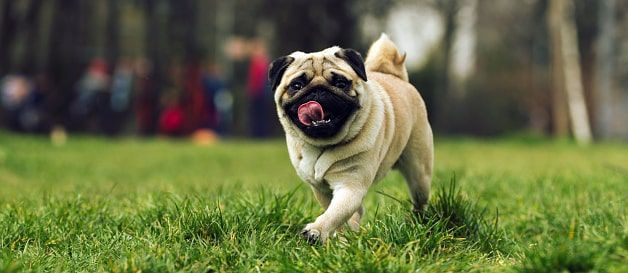dog: (261, 10, 437, 238)
